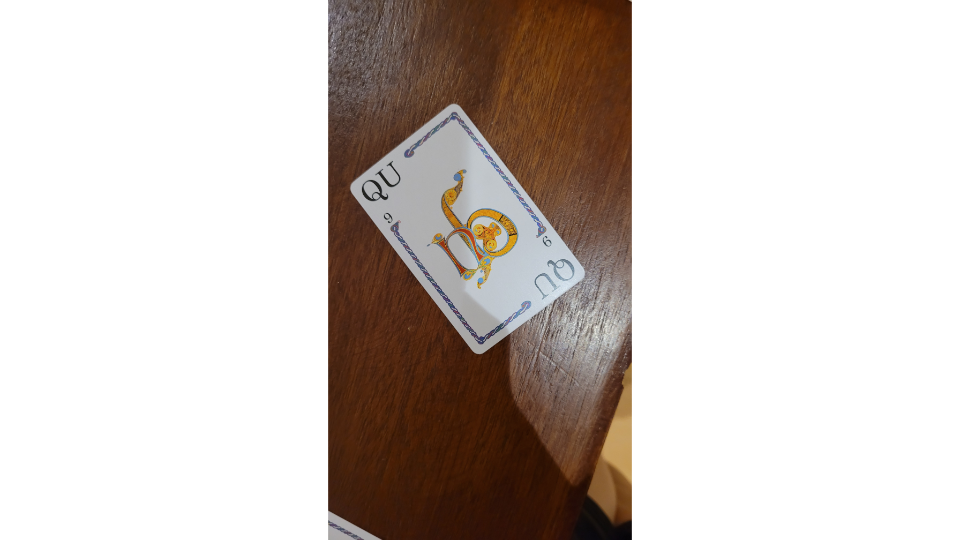QU: (346, 102, 588, 356)
